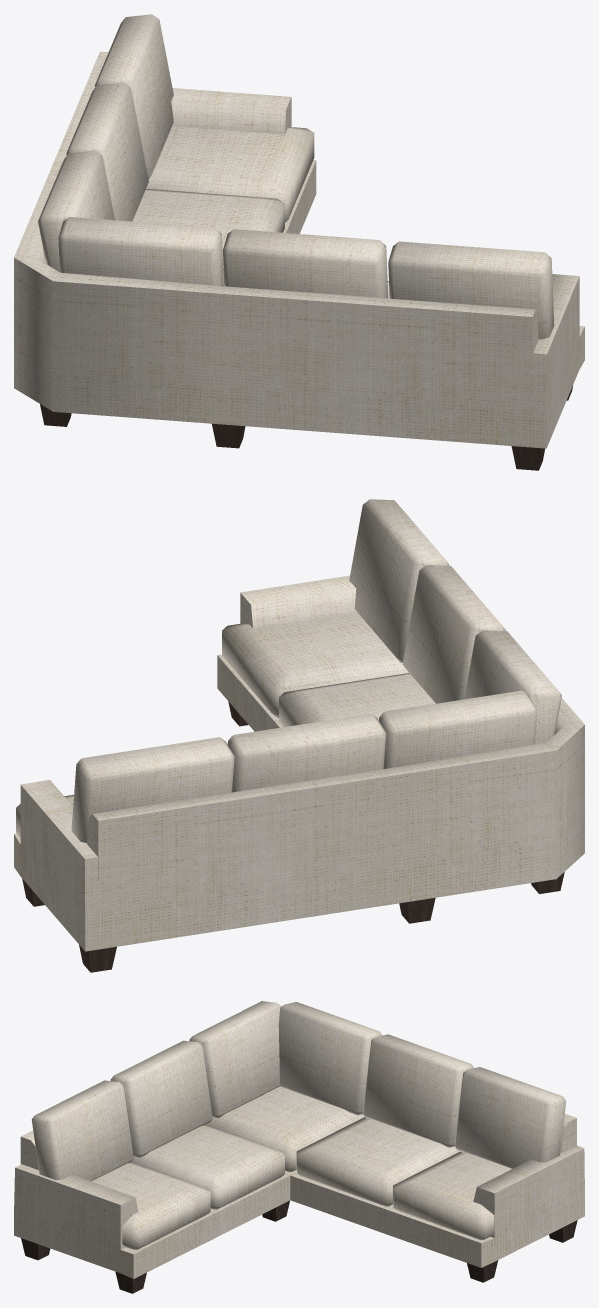
3 views of the same model, one above another, from view 1: azimuth 30°, elevation 25°; view 2: azimuth 150°, elevation 25°; view 3: azimuth 270°, elevation 25° (orthographic). The views are drawn at different scales.
Parts seen in each view (by area): view 1: Armchair_17001_Fabric_10_0, Armchair_17001_Wood_10001_0; view 2: Armchair_17001_Fabric_10_0, Armchair_17001_Wood_10001_0; view 3: Armchair_17001_Fabric_10_0, Armchair_17001_Wood_10001_0.
Boxes of the visible parts, left/top/right/bottom form: Armchair_17001_Fabric_10_0: left=14, top=14, right=584, bottom=448; Armchair_17001_Wood_10001_0: left=40, top=385, right=573, bottom=470; Armchair_17001_Fabric_10_0: left=14, top=499, right=584, bottom=951; Armchair_17001_Wood_10001_0: left=22, top=701, right=564, bottom=972; Armchair_17001_Fabric_10_0: left=14, top=1001, right=584, bottom=1278; Armchair_17001_Wood_10001_0: left=21, top=1200, right=577, bottom=1293.
Size of the model in its own units: 2.22 by 0.9305 by 3.28.
2 materials, 2 textured.
